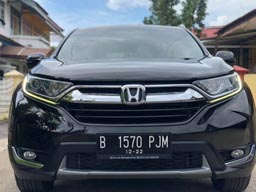plat: (96, 133, 169, 148)
